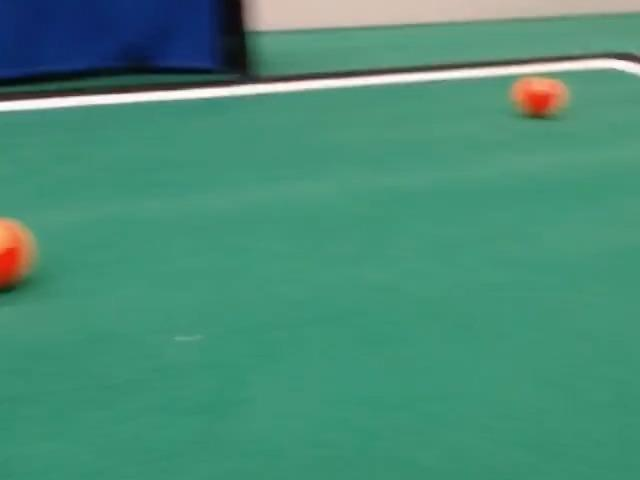Ball: (0, 218, 37, 290), (511, 77, 568, 117)
